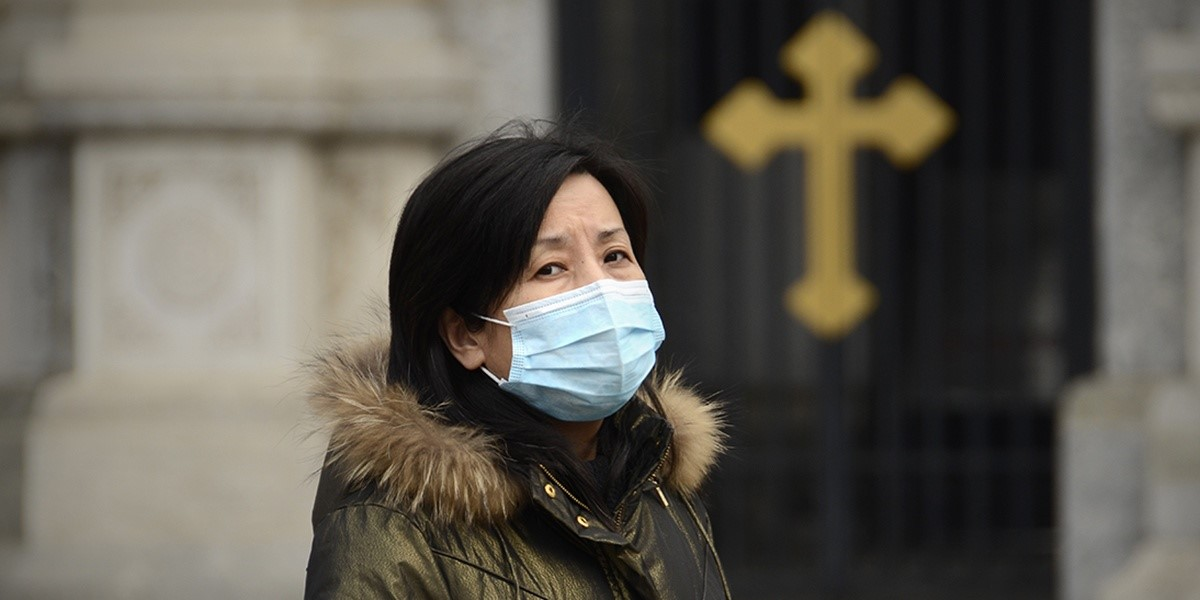face_with_mask: (393, 126, 674, 420)
